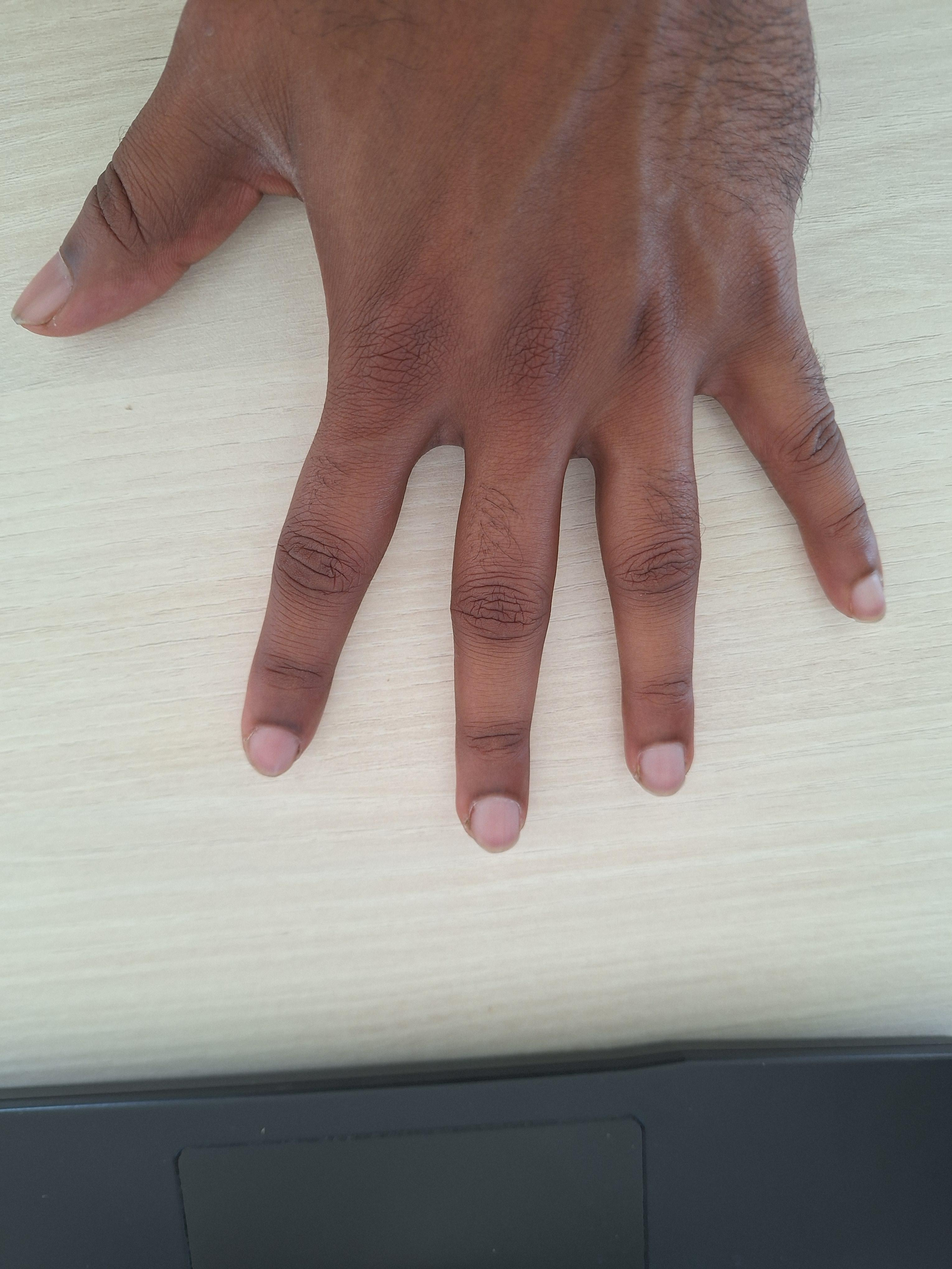Fingernail: (11, 252, 72, 325), (471, 797, 520, 854), (246, 727, 299, 777), (639, 742, 685, 797), (851, 571, 887, 624)
